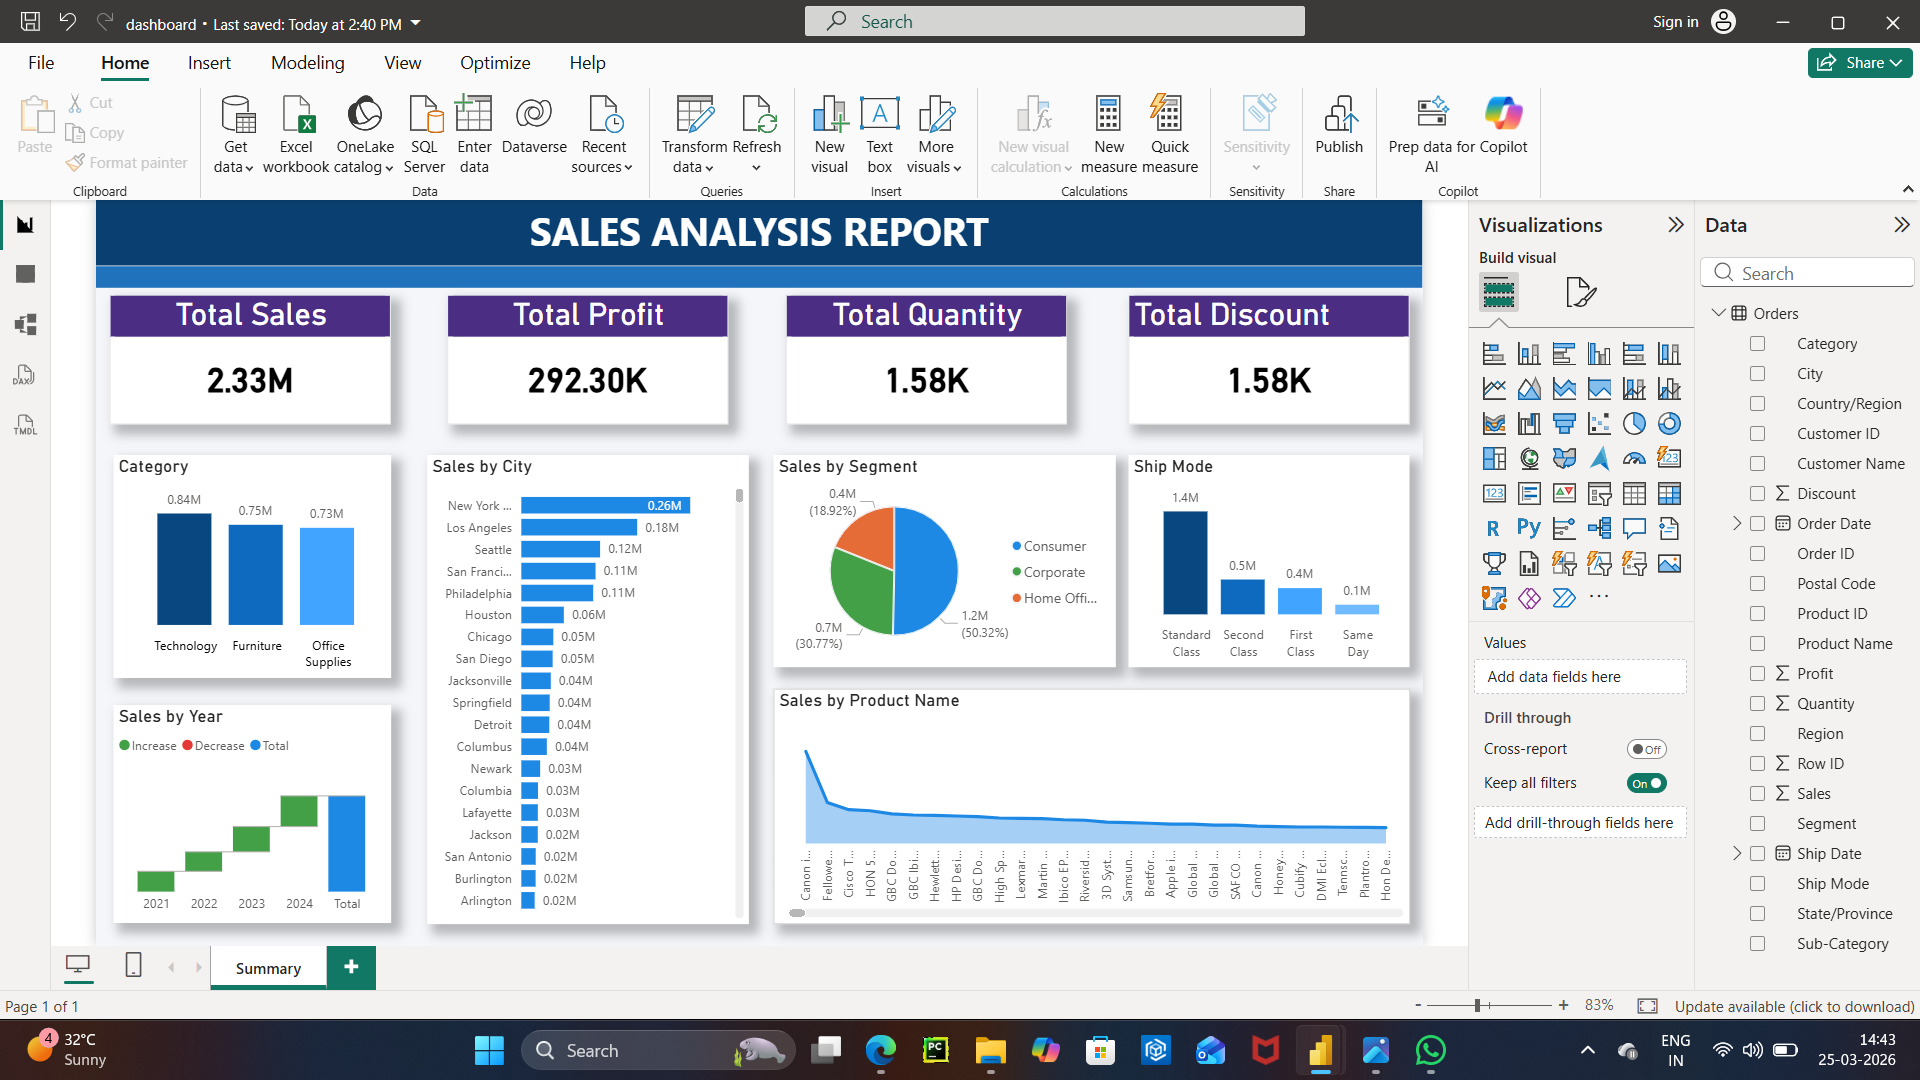

Layout of this report page (visuals, bound fields, positions):
{"tool":"powerbi","page":{"name":"Summary","canvas":[1280,720],"ordinal":0},"visuals":[{"type":"textbox","box":[0,0,1280.3,63.6],"z":0},{"type":"card","title":"Total Sales","fields":{"Values":["Sum(Orders.Sales)"]},"box":[13.5,91.7,271.5,124.7],"z":1000,"group":"g1"},{"type":"columnChart","title":"Category","fields":{"Category":["Orders.Category"],"Y":["Sum(Orders.Sales)"]},"box":[17.1,245.8,267.8,215.2],"z":1000},{"type":"card","title":"Total Discount","fields":{"Values":["Sum(Orders.Discount)"]},"box":[996.7,91.7,271,124.7],"z":2000,"group":"g1"},{"type":"pieChart","title":"Sales by Segment","fields":{"Y":["Sum(Orders.Sales)"],"Category":["Orders.Segment"]},"box":[653.9,246.1,330.6,205.1],"z":2000},{"type":"card","title":"Total Profit","fields":{"Values":["Sum(Orders.Profit)"]},"box":[338.8,91.7,271,124.7],"z":3000,"group":"g1"},{"type":"waterfallChart","title":"Sales by Year","fields":{"Category":["Orders.Order Date.Variation.Date Hierarchy.Year"],"Y":["Sum(Orders.Sales)"]},"box":[17.1,487.9,267.8,210.3],"z":3000},{"type":"card","title":"Total Quantity","fields":{"Values":["Sum(Orders.Discount)"]},"box":[666.5,91.7,271.5,124.7],"z":4000,"group":"g1"},{"type":"clusteredBarChart","title":"Sales by City","fields":{"Category":["Orders.City"],"Y":["Sum(Orders.Sales)"]},"box":[319.2,245.8,310.6,452.4],"z":4000},{"type":"shape","box":[0,63.6,1280.3,20.8],"z":5000},{"type":"areaChart","title":"Sales by Product Name","fields":{"Category":["Orders.Product Name"],"Y":["Sum(Orders.Sales)"]},"box":[653.9,471.7,614.1,226.8],"z":6000},{"type":"columnChart","title":"Ship Mode","fields":{"Category":["Orders.Ship Mode"],"Y":["Sum(Orders.Sales)"]},"box":[997,246,271,205],"z":7000},{"type":"group","id":"g1","title":"Group 1","box":[13.5,91.7,1254.2,124.7],"z":8000}]}

Visuals, with their boxes on the page's 1280x720 design canvas (x1, y1, x2, y2). These are canvas units, not pixel positions in the 1920x1080 screenshot, which may show the page scaled, cropped or inside an application window:
textbox: <region>0, 0, 1280, 64</region>
"Total Sales" card: <region>14, 92, 285, 216</region>
"Category" columnChart: <region>17, 246, 285, 461</region>
"Total Discount" card: <region>997, 92, 1268, 216</region>
"Sales by Segment" pieChart: <region>654, 246, 984, 451</region>
"Total Profit" card: <region>339, 92, 610, 216</region>
"Sales by Year" waterfallChart: <region>17, 488, 285, 698</region>
"Total Quantity" card: <region>666, 92, 938, 216</region>
"Sales by City" clusteredBarChart: <region>319, 246, 630, 698</region>
shape: <region>0, 64, 1280, 84</region>
"Sales by Product Name" areaChart: <region>654, 472, 1268, 698</region>
"Ship Mode" columnChart: <region>997, 246, 1268, 451</region>
"Group 1" group: <region>14, 92, 1268, 216</region>
